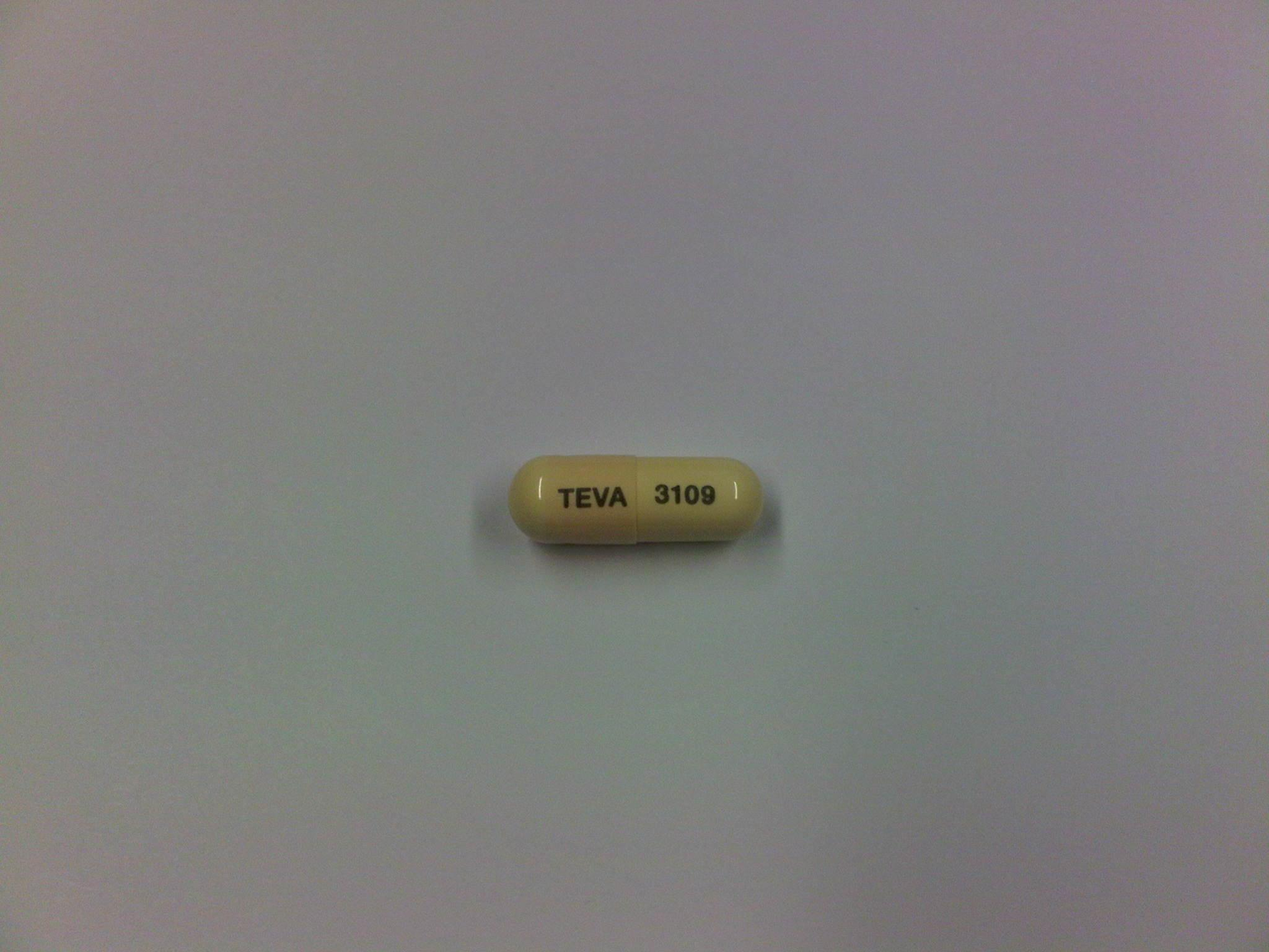Pill: (502, 445, 768, 553)
